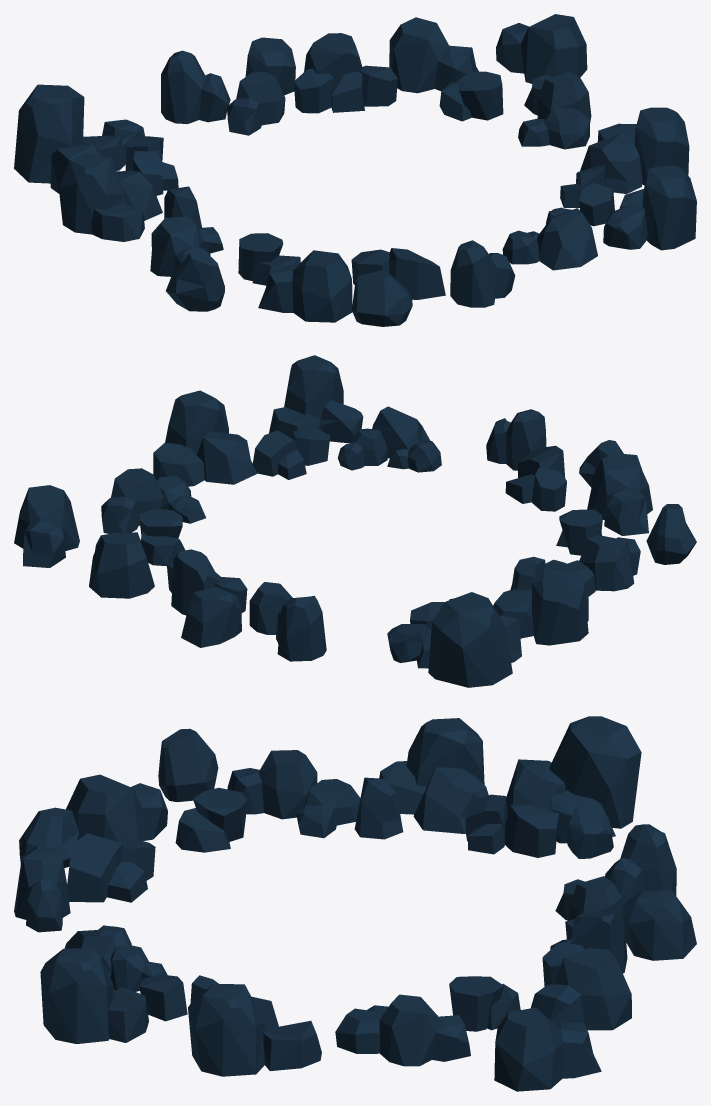
File: Model_Deco_rock_98.FBX
The picture shows the model from 3 angles, top to bottom: view 1: azimuth 30°, elevation 25°; view 2: azimuth 150°, elevation 25°; view 3: azimuth 270°, elevation 25°; orthographic projection. The views are drawn at different scales.
Parts seen in each view (by area): view 1: Model_Deco_rock_74, Model_Deco_rock_66, Model_Deco_rock_69, Model_Deco_rock_87, Model_Deco_rock_82, Model_Deco_rock_85, Model_Deco_rock_86, Model_Deco_rock_83, Model_Deco_rock_77, Model_Deco_rock_80, Model_Deco_rock_90, Model_Deco_rock_76 (+12 smaller); view 2: Model_Deco_rock_66, Model_Deco_rock_82, Model_Deco_rock_69, Model_Deco_rock_74, Model_Deco_rock_77, Model_Deco_rock_83, Model_Deco_rock_85, Model_Deco_rock_86, Model_Deco_rock_71, Model_Deco_rock_81, Model_Deco_rock_75, Model_Deco_rock_88 (+12 smaller); view 3: Model_Deco_rock_66, Model_Deco_rock_82, Model_Deco_rock_69, Model_Deco_rock_74, Model_Deco_rock_71, Model_Deco_rock_83, Model_Deco_rock_85, Model_Deco_rock_80, Model_Deco_rock_86, Model_Deco_rock_75, Model_Deco_rock_88, Model_Deco_rock_76 (+12 smaller).
Part boxes in pixels (left/top/right/bottom): Model_Deco_rock_74: left=258, top=250, right=412, bottom=326; Model_Deco_rock_66: left=14, top=84, right=144, bottom=193; Model_Deco_rock_69: left=59, top=152, right=162, bottom=241; Model_Deco_rock_87: left=294, top=33, right=397, bottom=113; Model_Deco_rock_82: left=580, top=107, right=689, bottom=193; Model_Deco_rock_85: left=496, top=14, right=587, bottom=83; Model_Deco_rock_86: left=389, top=17, right=478, bottom=93; Model_Deco_rock_83: left=518, top=71, right=591, bottom=149; Model_Deco_rock_77: left=502, top=207, right=597, bottom=270; Model_Deco_rock_80: left=642, top=165, right=696, bottom=250; Model_Deco_rock_90: left=161, top=50, right=230, bottom=124; Model_Deco_rock_76: left=450, top=240, right=515, bottom=307; Model_Deco_rock_66: left=387, top=592, right=521, bottom=687; Model_Deco_rock_82: left=153, top=390, right=257, bottom=486; Model_Deco_rock_69: left=493, top=568, right=588, bottom=645; Model_Deco_rock_74: left=579, top=440, right=652, bottom=535; Model_Deco_rock_77: left=338, top=406, right=441, bottom=472; Model_Deco_rock_83: left=101, top=468, right=205, bottom=533; Model_Deco_rock_85: left=14, top=485, right=79, bottom=567; Model_Deco_rock_86: left=89, top=532, right=154, bottom=598; Model_Deco_rock_71: left=545, top=535, right=640, bottom=596; Model_Deco_rock_81: left=252, top=428, right=330, bottom=479; Model_Deco_rock_75: left=505, top=445, right=566, bottom=511; Model_Deco_rock_88: left=181, top=586, right=241, bottom=647; Model_Deco_rock_66: left=506, top=716, right=641, bottom=858; Model_Deco_rock_82: left=188, top=984, right=321, bottom=1076; Model_Deco_rock_69: left=379, top=718, right=488, bottom=833; Model_Deco_rock_74: left=19, top=774, right=167, bottom=867; Model_Deco_rock_71: left=227, top=750, right=360, bottom=838; Model_Deco_rock_83: left=335, top=994, right=470, bottom=1066; Model_Deco_rock_85: left=494, top=1007, right=601, bottom=1091; Model_Deco_rock_80: left=40, top=947, right=114, bottom=1043; Model_Deco_rock_86: left=531, top=948, right=631, bottom=1030; Model_Deco_rock_75: left=67, top=833, right=155, bottom=902; Model_Deco_rock_88: left=622, top=890, right=696, bottom=960; Model_Deco_rock_76: left=14, top=845, right=70, bottom=932.
Size of the model in its own units: 12039 by 1531 by 11063.
